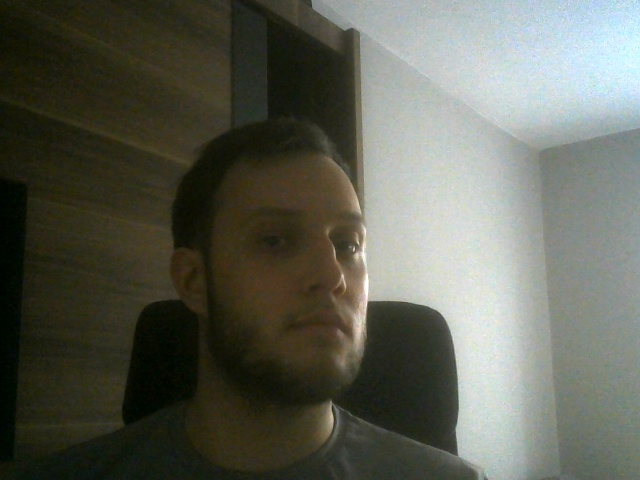neutral: (172, 123, 370, 394)
